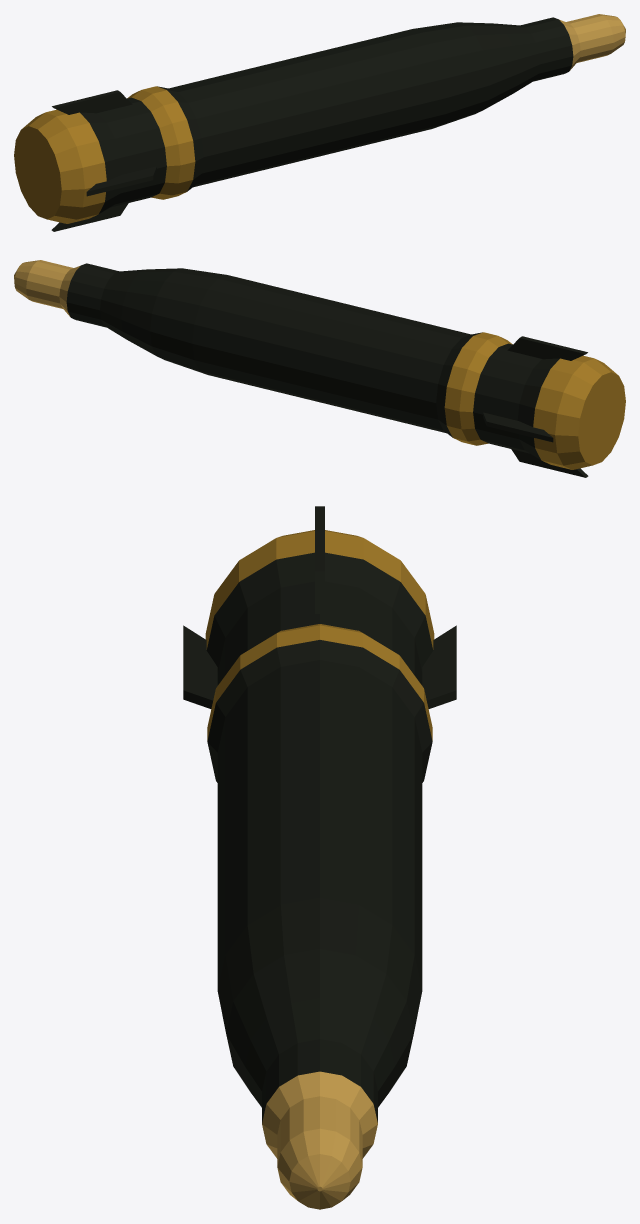
File: heat.obj
The picture shows the model from 3 angles, top to bottom: view 1: azimuth 30°, elevation 25°; view 2: azimuth 150°, elevation 25°; view 3: azimuth 270°, elevation 25°; orthographic projection. The views are drawn at different scales.
Parts seen in each view (by area): view 1: projectile_heat; view 2: projectile_heat; view 3: projectile_heat.
Part boxes in pixels (x1,y1,x2,y2): projectile_heat: (14, 14, 625, 231); projectile_heat: (14, 260, 625, 477); projectile_heat: (183, 506, 456, 1209).
Bounding box in the file's own units: 0.795 × 0.16 × 0.16.
